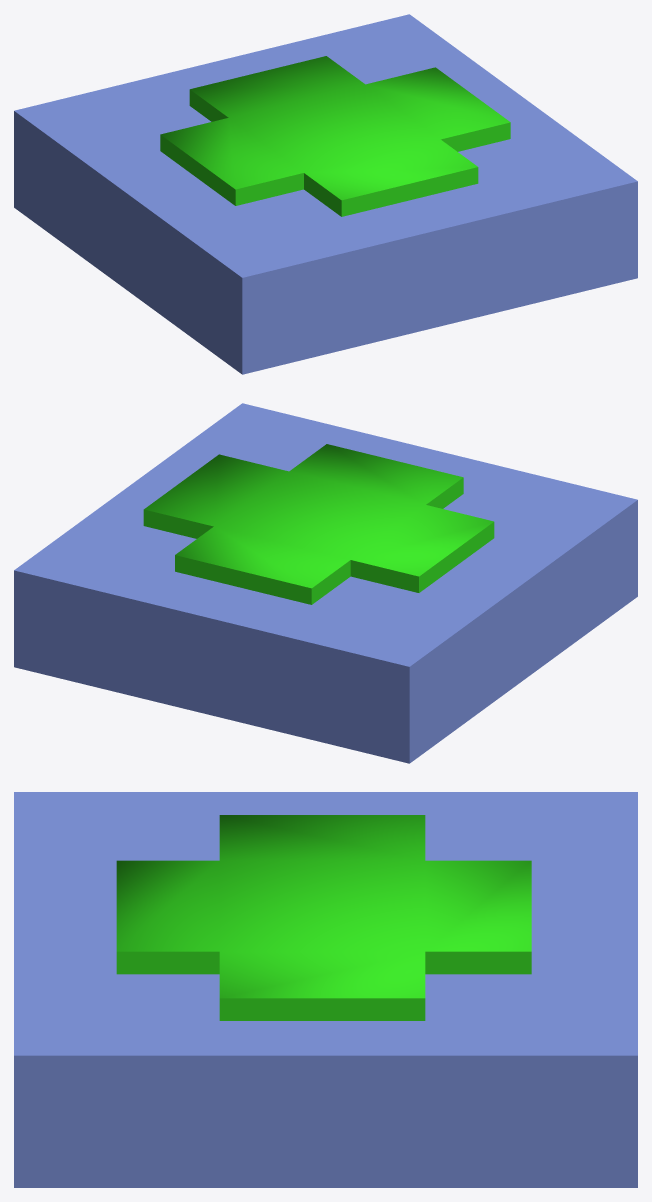
File: HealtsBoost.fbx
3 renders of one model, top to bottom at view 1: azimuth 30°, elevation 25°; view 2: azimuth 150°, elevation 25°; view 3: azimuth 270°, elevation 25°, orthographic. The views are drawn at different scales.
Visible parts, largest first — view 1: Cube; view 2: Cube; view 3: Cube.
Boxes of the visible parts, x1,y1,x2,y2 form: Cube: (14,14,637,374); Cube: (14,403,637,763); Cube: (14,792,637,1187).
Bounding box in the file's own units: 38.53 × 10.56 × 38.53.
